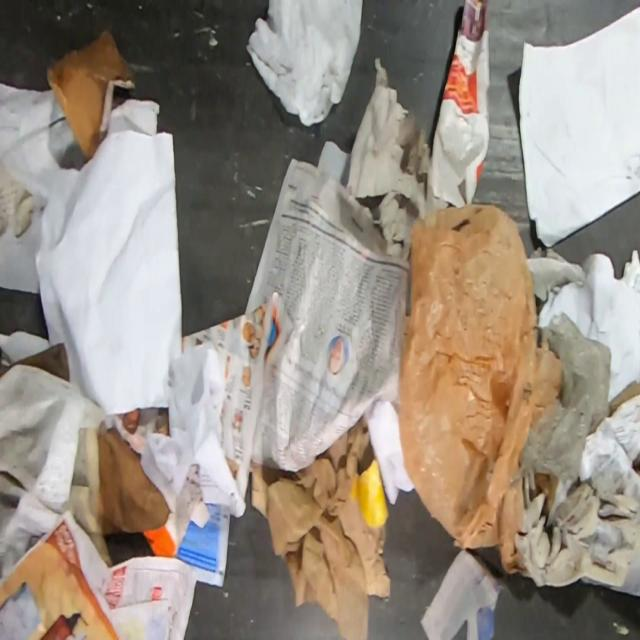cardboard: (46, 28, 135, 161), (0, 340, 70, 383), (608, 380, 640, 417), (631, 447, 640, 481)
soft_plastic: (397, 201, 564, 573), (507, 311, 611, 490), (246, 0, 362, 128), (535, 474, 560, 512)
